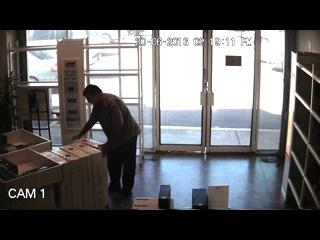Normal: (71, 84, 141, 197)
